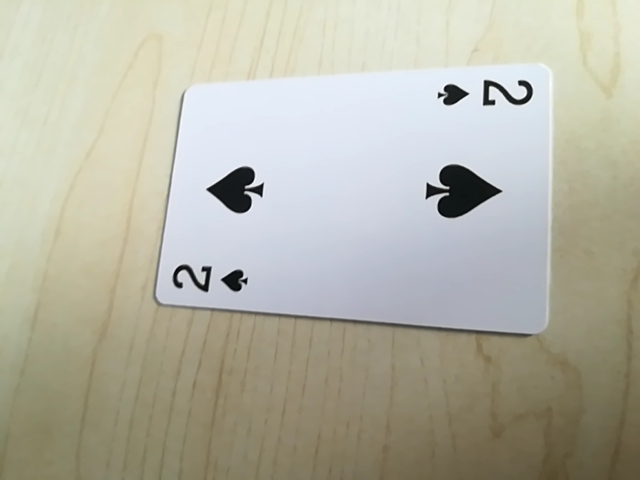ht 2: (430, 72, 539, 117), (166, 257, 255, 302)
